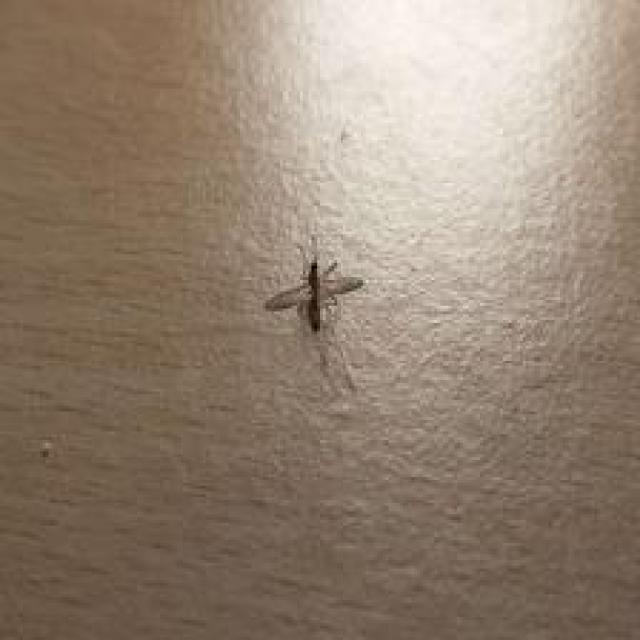Culex: (263, 236, 366, 336)
